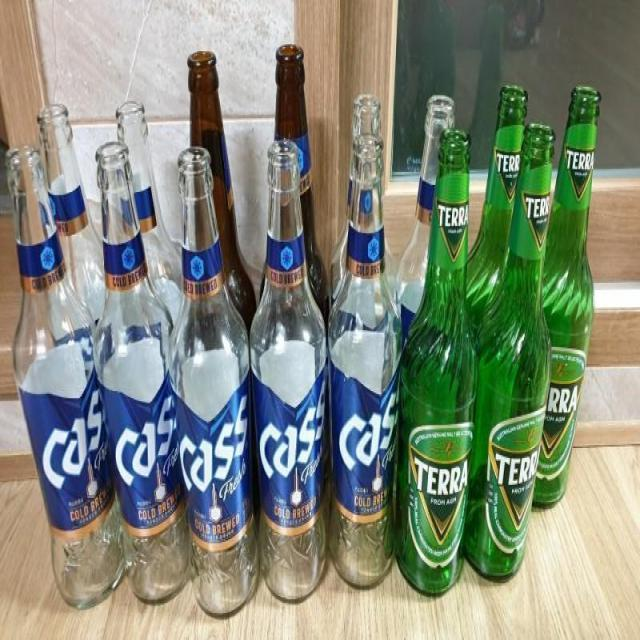beer-bottle: (92, 116, 188, 606), (463, 79, 555, 586), (165, 106, 257, 608), (13, 123, 108, 598), (390, 118, 480, 596), (248, 136, 332, 596), (535, 91, 597, 512), (334, 95, 388, 338)
